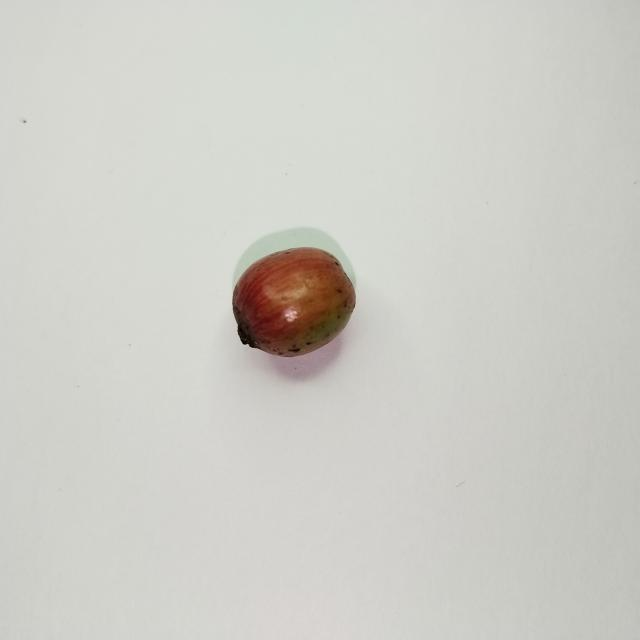Sano: (233, 248, 354, 356)
